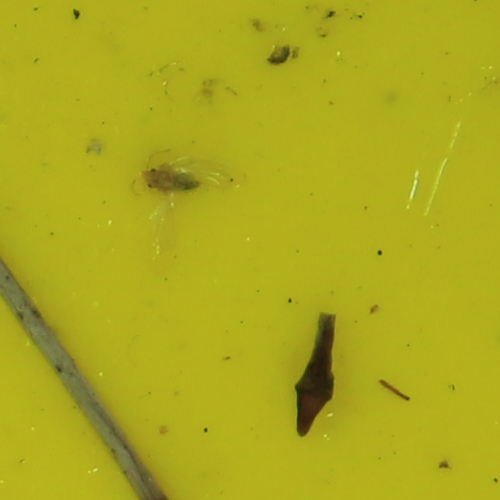psylla: (141, 163, 205, 194)
